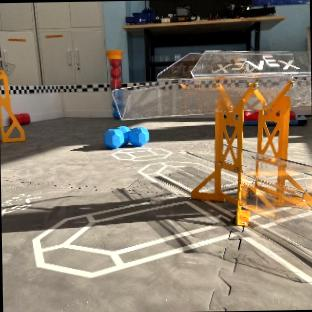Goal: (112, 49, 312, 224), (0, 68, 24, 142)
Loader: (106, 50, 123, 118)
V5_BLUE: (103, 125, 148, 148)
V5_RED: (15, 113, 30, 123)
redloader: (106, 50, 122, 88)
